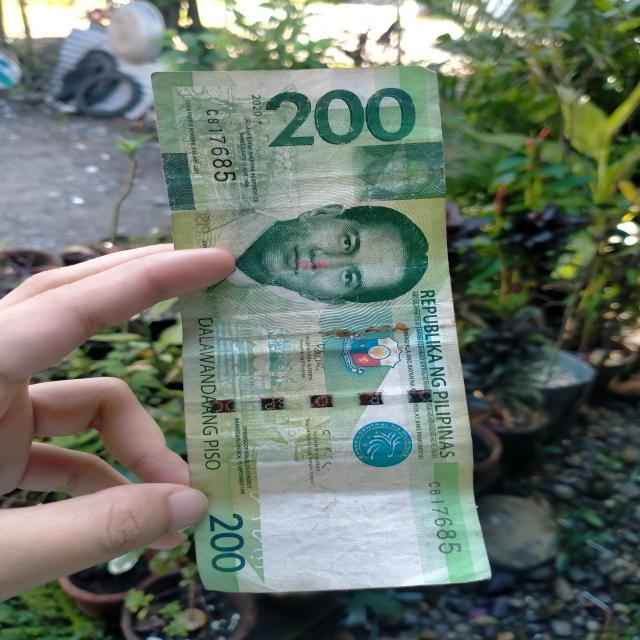concealed_value: (351, 141, 445, 202)
security_thread: (184, 386, 462, 413)
see_through_mark: (239, 484, 288, 582)
serial_number: (417, 477, 471, 561), (198, 102, 240, 190)
value: (260, 83, 420, 150)
